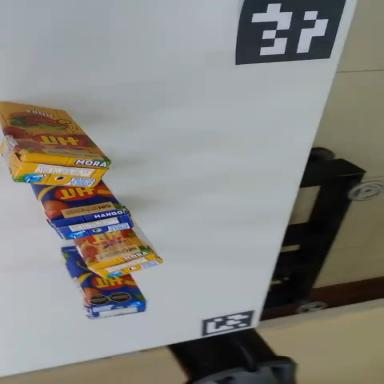HIT-MANGO: (58, 225, 150, 332), (32, 170, 132, 243)
HIT-MORA: (0, 102, 116, 193), (74, 216, 162, 286)
cara_F: (58, 224, 146, 325), (0, 102, 116, 165), (31, 168, 124, 223), (74, 220, 145, 269)
